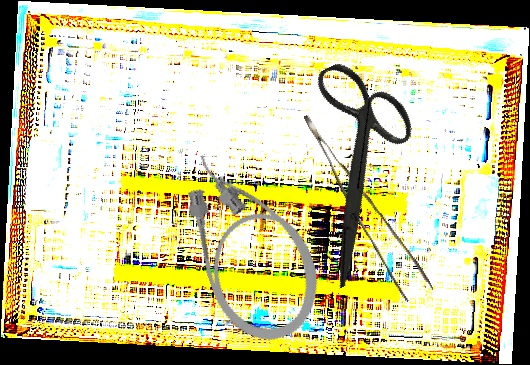Cannula: (168, 132, 334, 354)
Iris Scissors: (246, 44, 466, 290)
Tissue Forceps: (303, 98, 434, 308)
